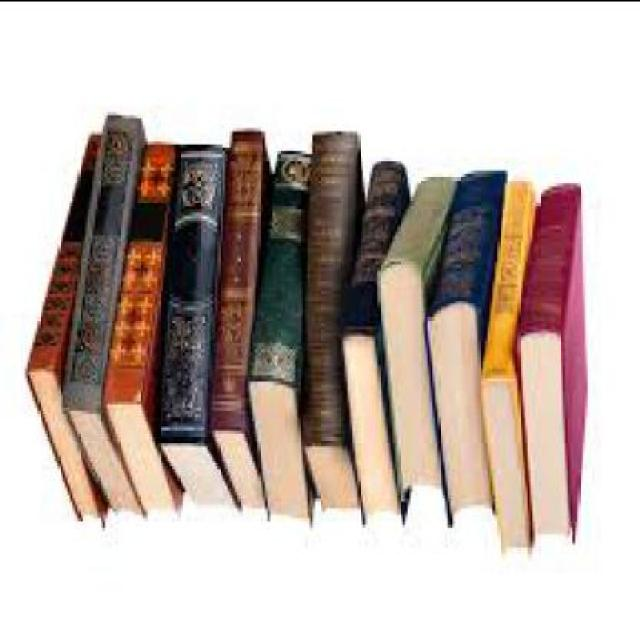PAPER: (67, 110, 150, 510), (28, 129, 112, 520), (105, 136, 180, 524), (433, 163, 510, 526), (380, 168, 463, 504), (252, 146, 323, 523), (345, 160, 418, 526), (160, 137, 231, 506), (302, 127, 370, 510), (520, 182, 588, 542), (215, 126, 273, 517), (480, 175, 540, 552)
